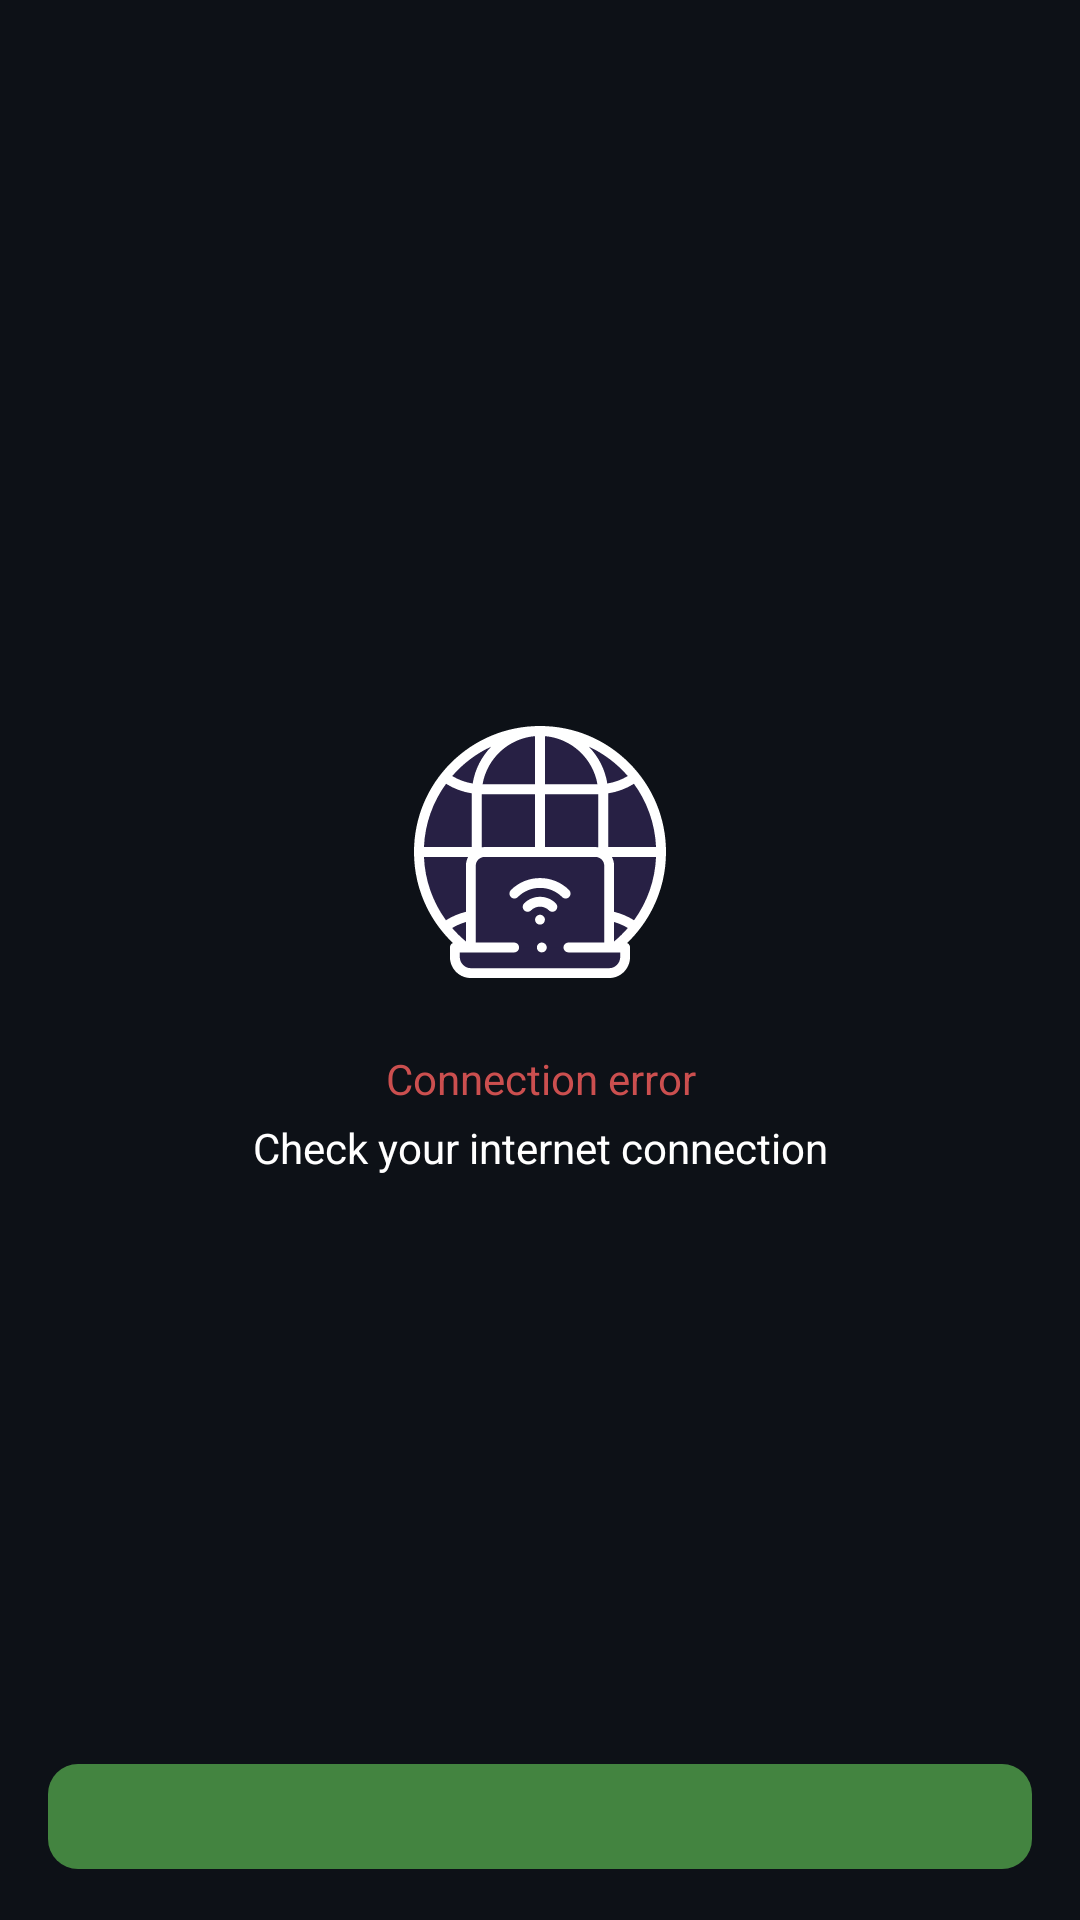

Screen size 1080w x 1920h. Icon name, then its center in pixels as [x,y]:
network error: [540,852]
